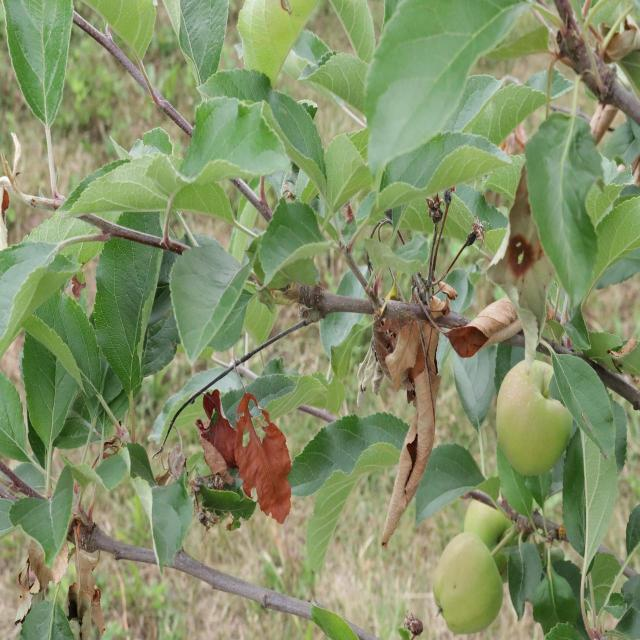-FireBlight-: (356, 304, 437, 552), (184, 389, 290, 518), (25, 540, 109, 632), (451, 302, 524, 352)
